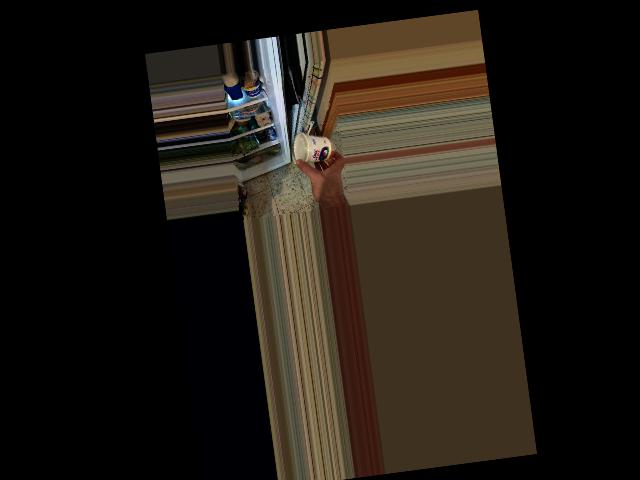cotage: (292, 129, 332, 168)
